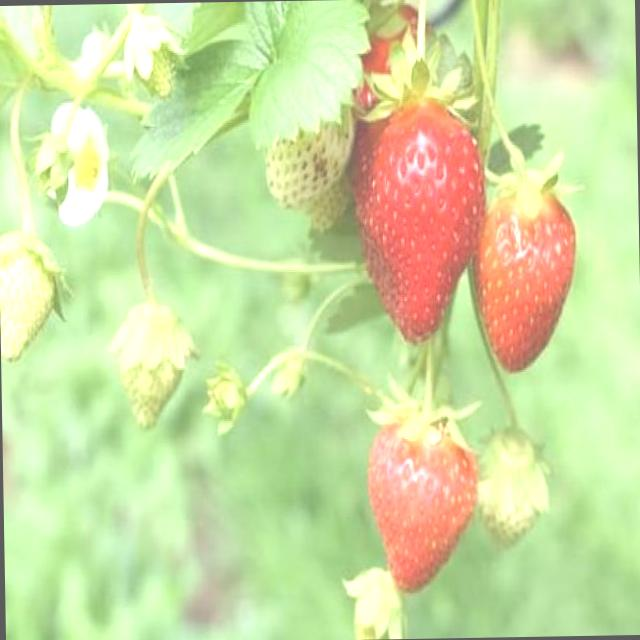Strawberry: (346, 100, 488, 344), (364, 422, 480, 592), (470, 190, 578, 372), (266, 118, 350, 234), (118, 302, 185, 430), (477, 434, 548, 552), (0, 236, 56, 360), (125, 16, 173, 98)
